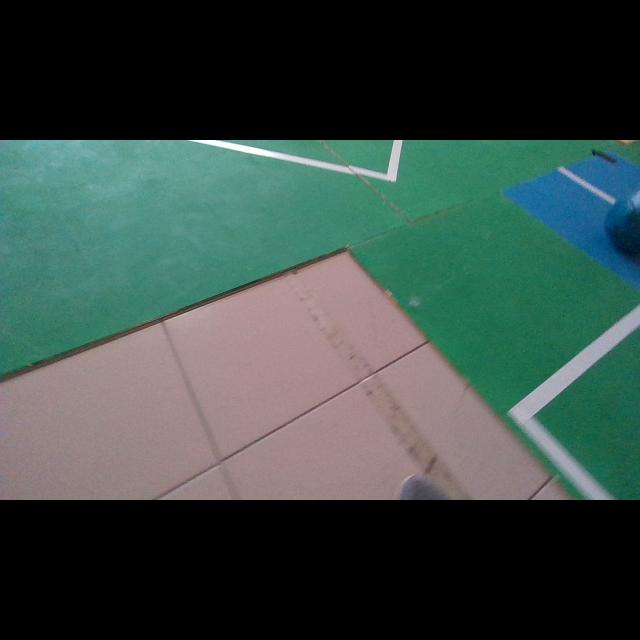B: (605, 189, 640, 256)
